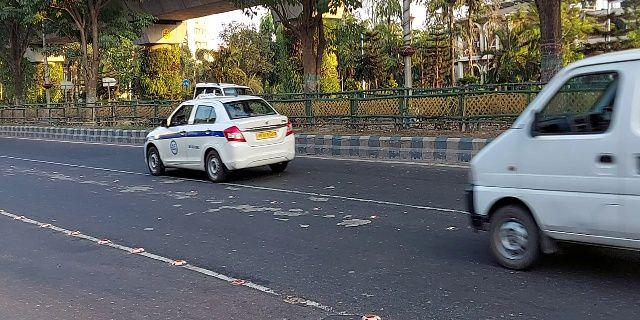Car: (138, 94, 297, 175)
Van: (461, 49, 640, 274)
